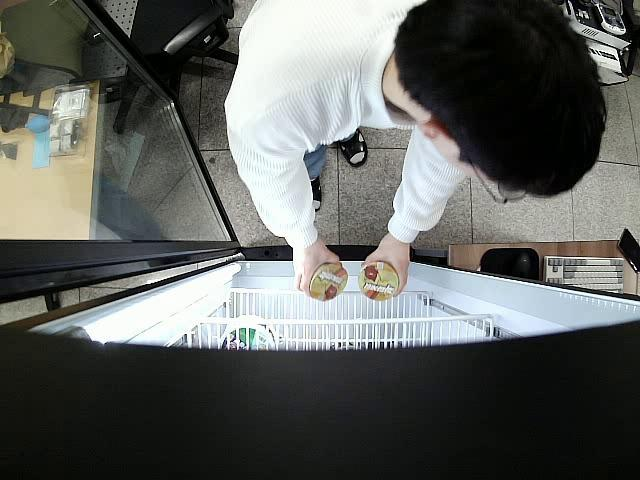04_chapagetti_S: (304, 262, 350, 300), (358, 264, 398, 300)
